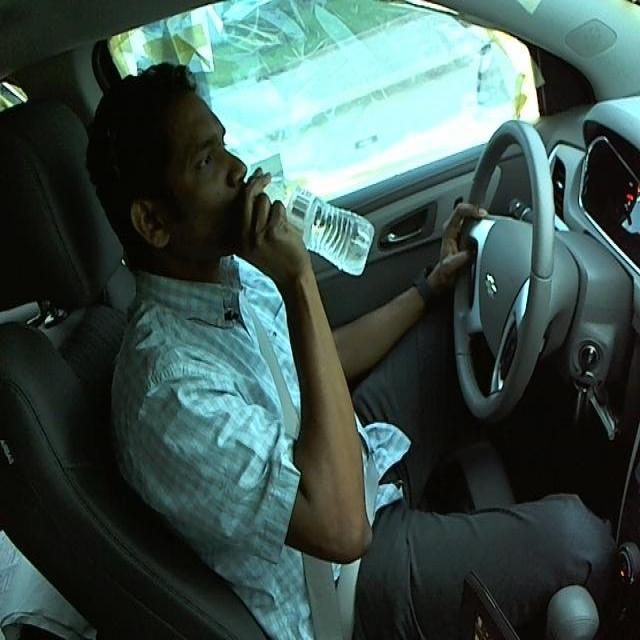drinking: (241, 165, 376, 278)
